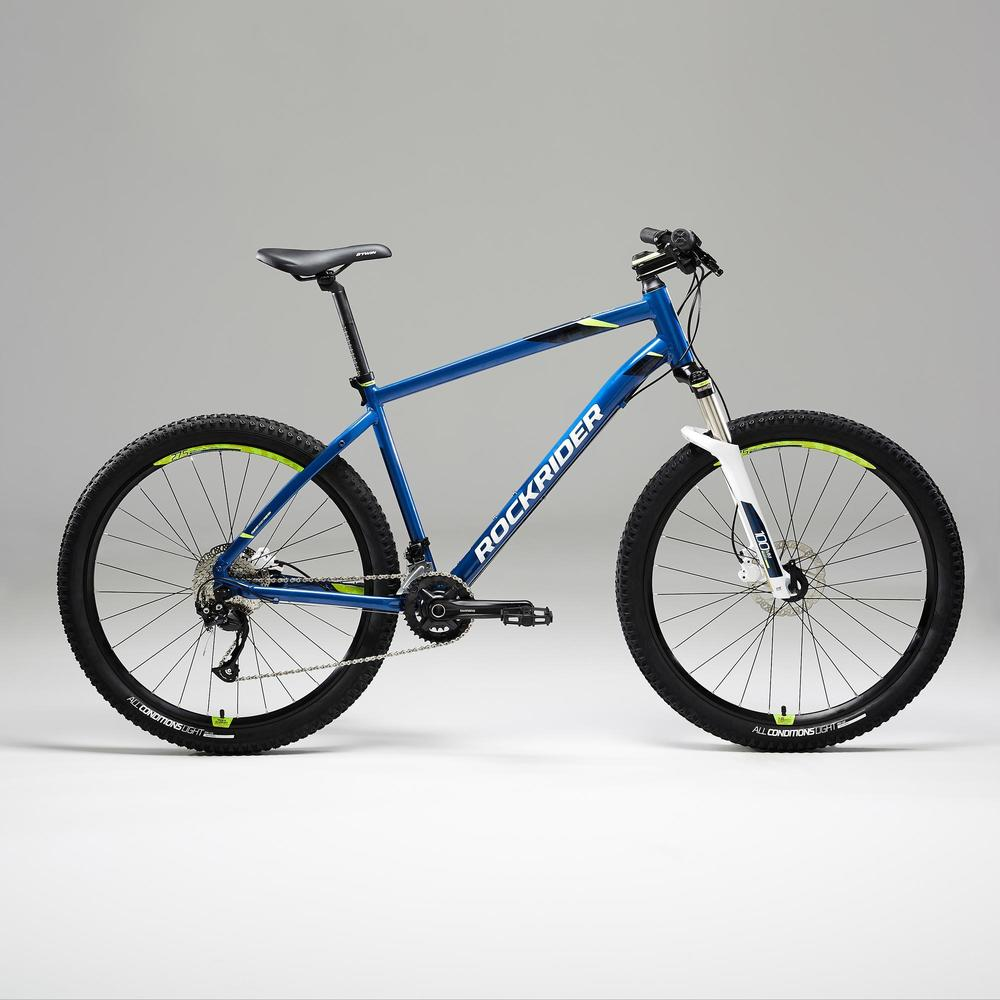MountainBike: (41, 223, 928, 763)
